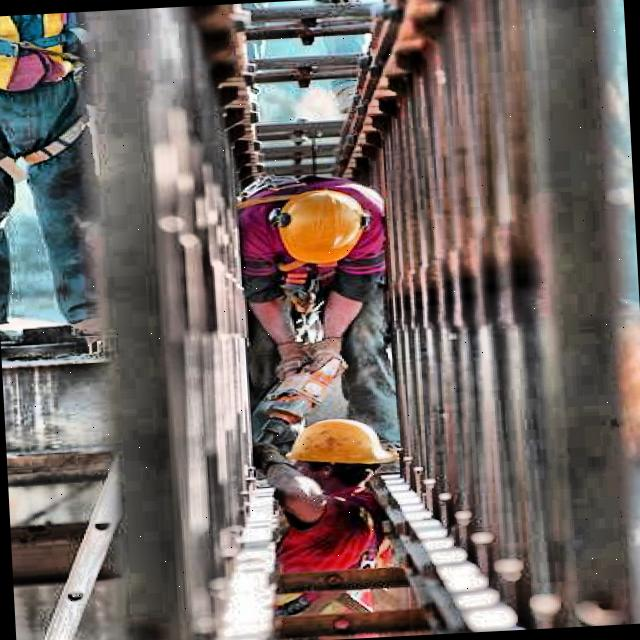helmet: (254, 172, 393, 306), (274, 403, 409, 504)
